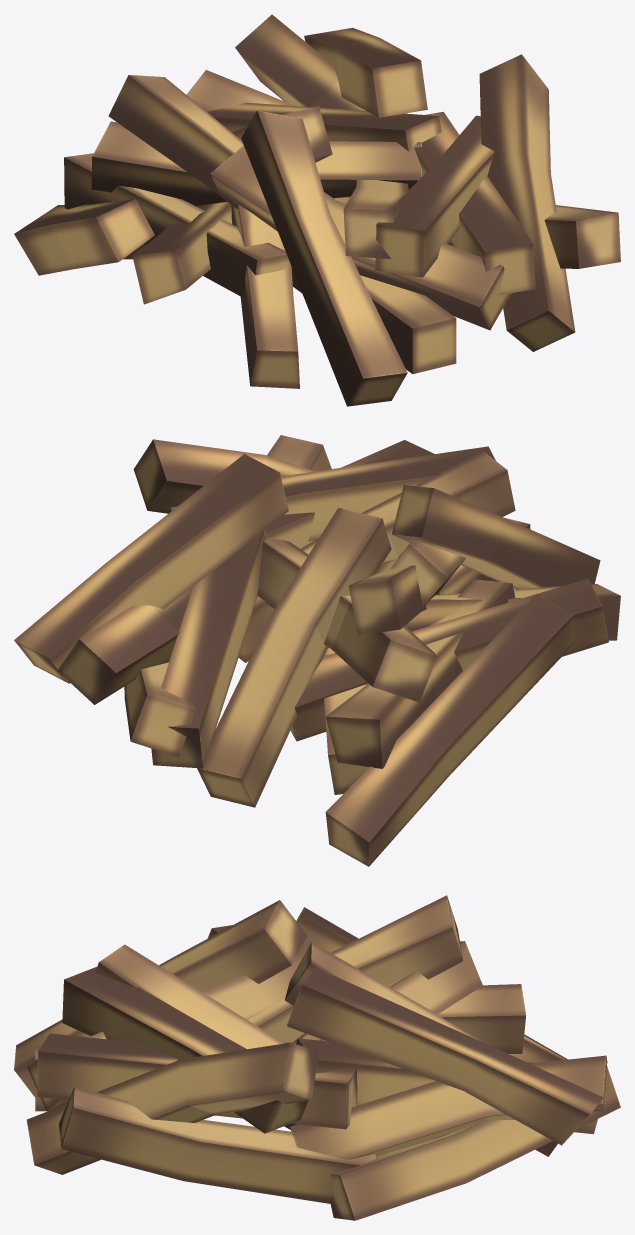
File: FriesSlightlyBurnt.fbx
3 renders of one model, top to bottom at view 1: azimuth 30°, elevation 25°; view 2: azimuth 150°, elevation 25°; view 3: azimuth 270°, elevation 25°, orthographic. The views are drawn at different scales.
Parts seen in each view (by area): view 1: FriesSlightlyBurnt; view 2: FriesSlightlyBurnt; view 3: FriesSlightlyBurnt.
Part boxes in pixels (bbox=[...]): FriesSlightlyBurnt: bbox=[14, 14, 620, 406]; FriesSlightlyBurnt: bbox=[14, 435, 620, 866]; FriesSlightlyBurnt: bbox=[14, 895, 620, 1220].
Bounding box in the file's own units: 175 × 94.73 × 213.
1 material, 1 textured.
